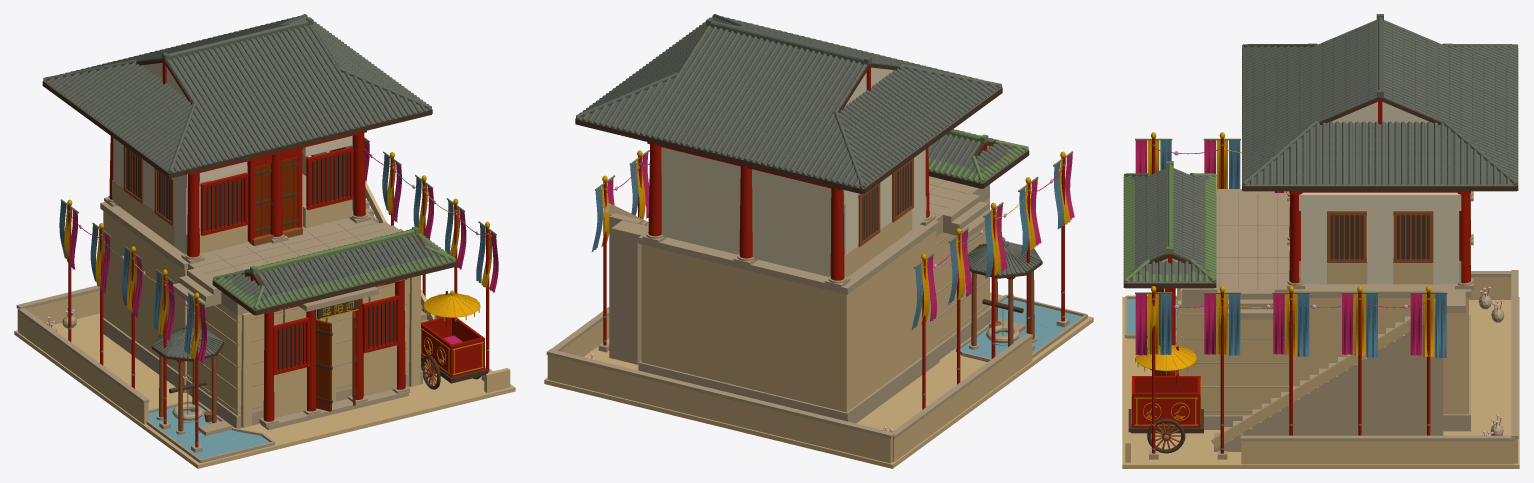
Rendered from xy_nverguo.glb.
The picture shows the model from 3 angles, left to right: view 1: azimuth 30°, elevation 25°; view 2: azimuth 150°, elevation 25°; view 3: azimuth 270°, elevation 25°; orthographic projection. The views are drawn at different scales.
Parts seen in each view (by area): view 1: xy_nverguo; view 2: xy_nverguo; view 3: xy_nverguo.
Boxes of the visible parts, box(x1,y1,x2,y2) form: xy_nverguo: box(14, 14, 515, 468); xy_nverguo: box(544, 14, 1093, 468); xy_nverguo: box(1122, 14, 1519, 468).
Bounding box in the file's own units: 17 × 15.68 × 17.
